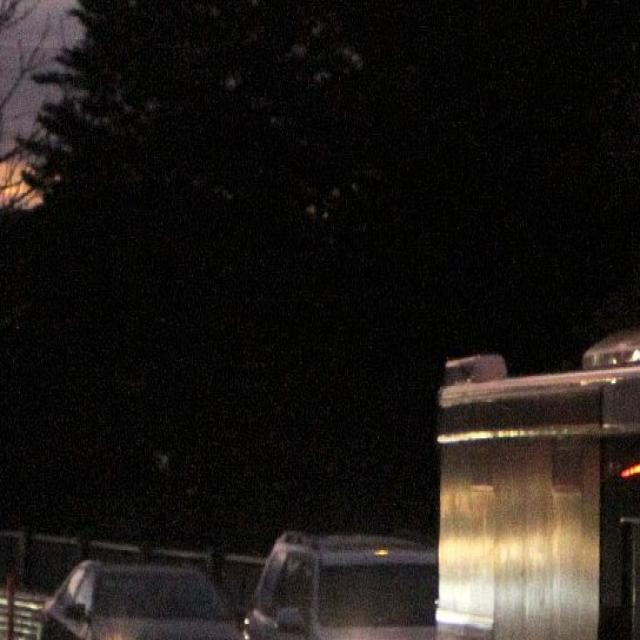bus: (432, 302, 640, 640)
car: (232, 522, 444, 640), (36, 554, 245, 640)
